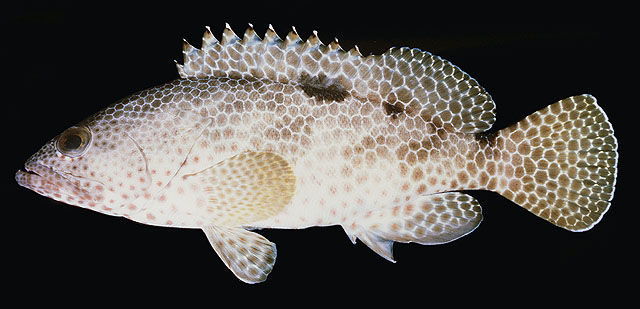fish: (15, 21, 619, 285)
